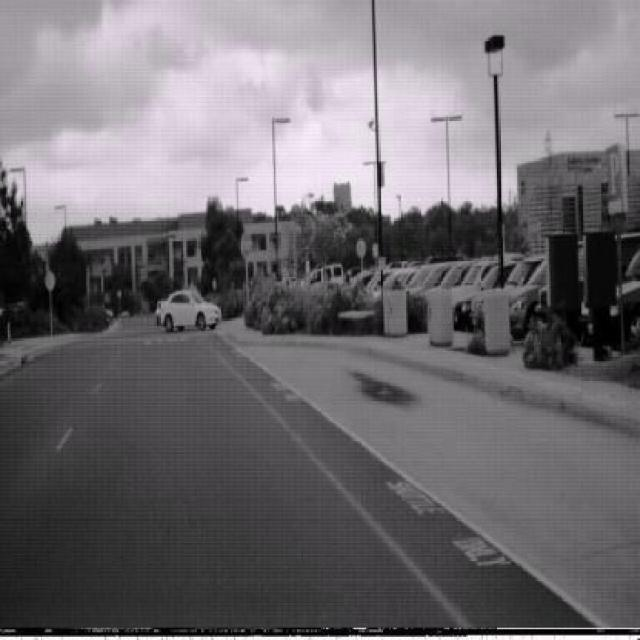stop: (238, 229, 254, 260)
